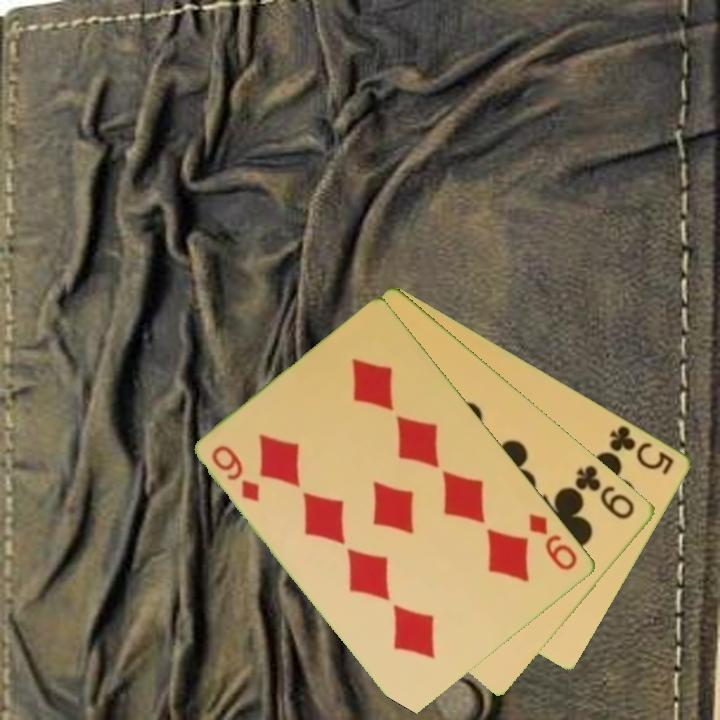5c: (606, 421, 678, 478)
9c: (572, 461, 639, 523)
9d: (208, 441, 264, 506), (525, 510, 581, 574)
